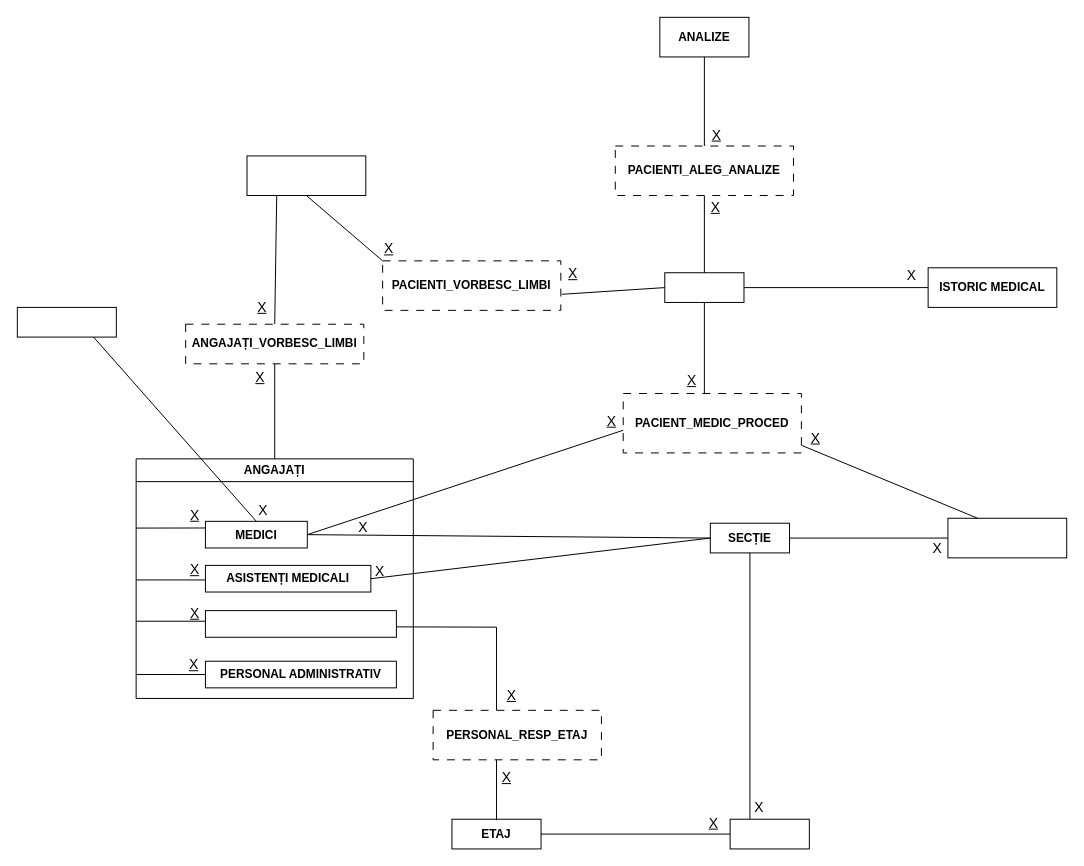
Some shapes in this 1084 by 866 pixel diagram are drawn without their labels. The centre of each missing label's shape, as x and y in pixels:
"CALIFICARE" goes at point 66,321.
"CAMERE" goes at point 769,833.
"LIMBĂ" goes at point 306,175.
"PACIENȚI" goes at point 704,287.
"PERSONAL NEMEDICAL" goes at point 300,623.
"PROCEDURI" goes at point 1007,537.
